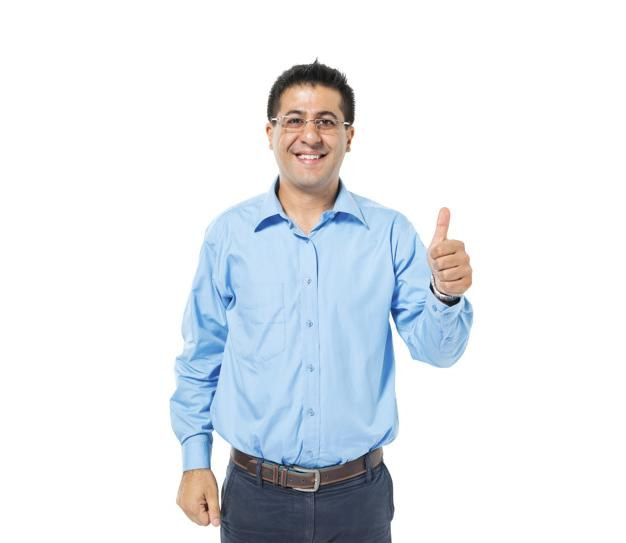thumbsup: (429, 207, 472, 294)
